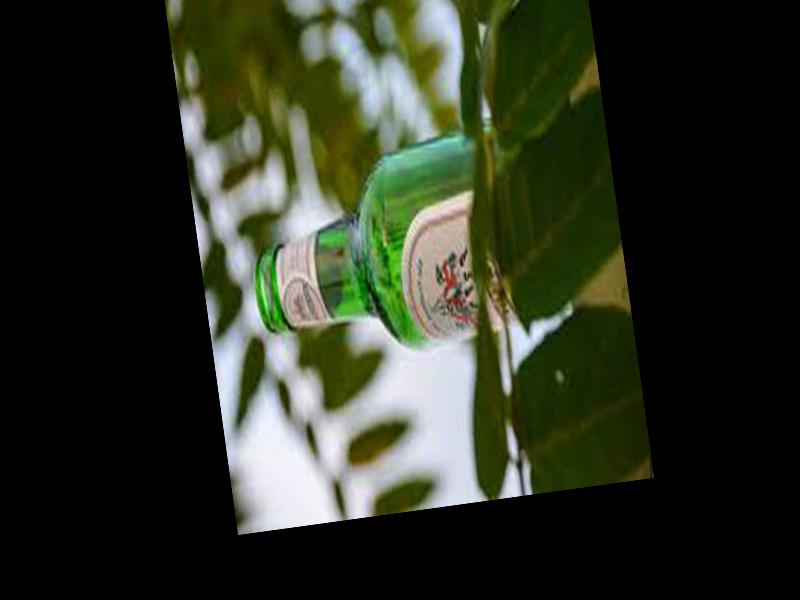Beer: (238, 132, 525, 367)
